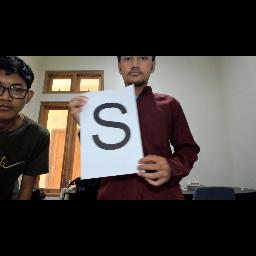s: (89, 100, 133, 158)
